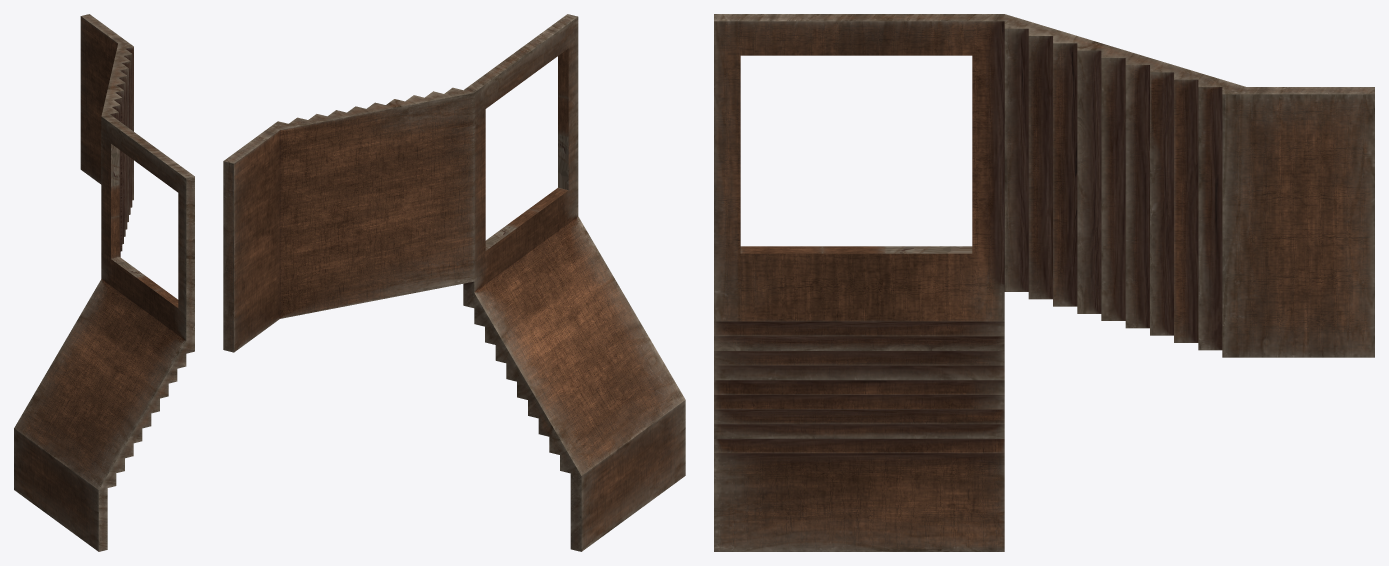
File: wooden_stair_hole.FBX
The picture shows the model from 3 angles, left to right: view 1: azimuth 30°, elevation 25°; view 2: azimuth 150°, elevation 25°; view 3: azimuth 270°, elevation 25°; orthographic projection. The views are drawn at different scales.
Visible parts, largest first — view 1: wooden_stair; view 2: wooden_stair; view 3: wooden_stair.
Part boxes in pixels (x1=…): wooden_stair: x1=14, y1=14, x2=194, y2=551; wooden_stair: x1=223, y1=14, x2=685, y2=551; wooden_stair: x1=714, y1=14, x2=1374, y2=551.
Size of the model in its own units: 229 by 421 by 417.
Materials: 1 (1 with a texture image).
